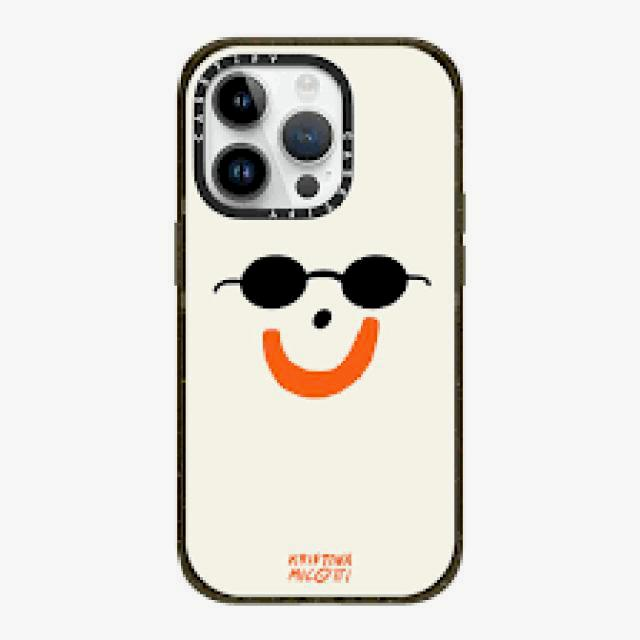lens: (198, 52, 356, 223)
phone: (177, 32, 466, 608)
